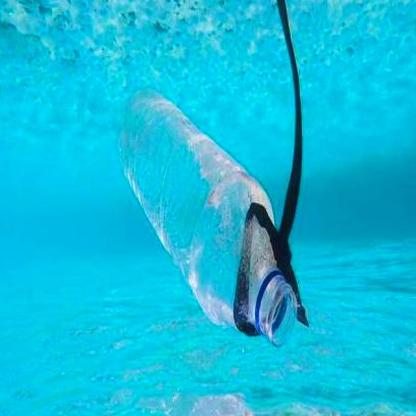plastic bottle: (117, 86, 297, 348)
